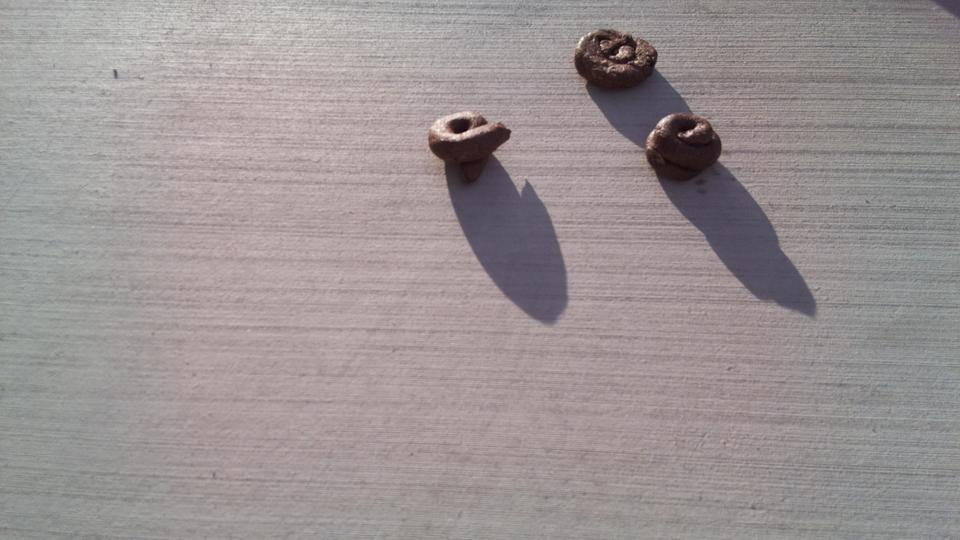poop: (425, 105, 512, 190), (570, 22, 662, 92), (643, 111, 728, 185)
